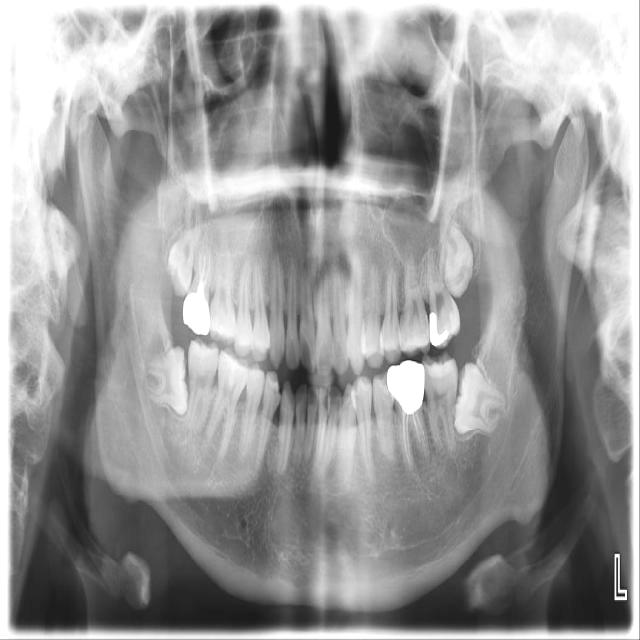Crown: (387, 360, 425, 414), (182, 293, 210, 339)
Filling: (429, 311, 449, 347), (426, 359, 458, 381)
Root Canal Treatment: (415, 410, 424, 456), (196, 241, 201, 279), (206, 240, 211, 276), (406, 418, 409, 464)
impacted tooth: (451, 366, 508, 432), (139, 346, 193, 415), (167, 210, 198, 301), (441, 214, 472, 294)
